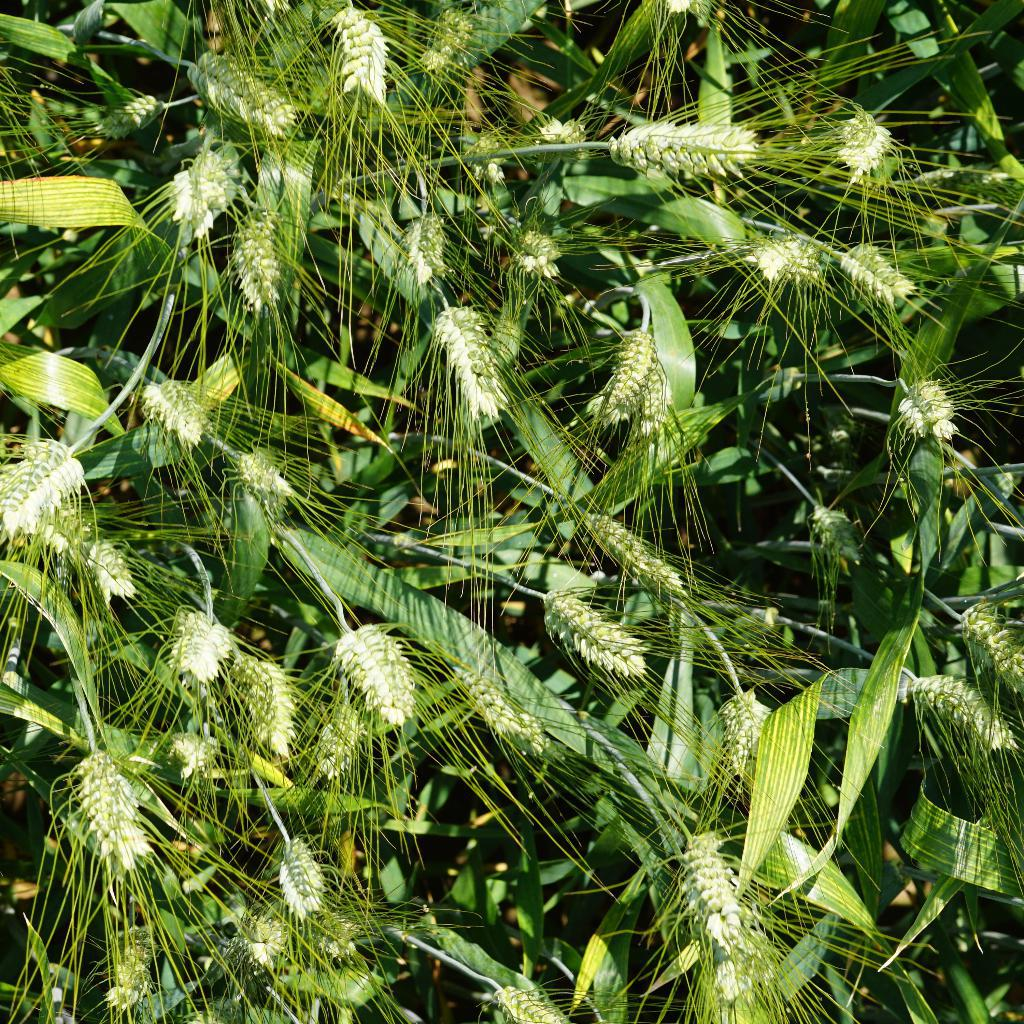0-0: (163, 37, 300, 147), (77, 740, 179, 877), (579, 507, 712, 610), (903, 651, 1011, 776), (601, 109, 766, 190), (33, 499, 163, 601), (332, 608, 423, 729), (0, 423, 93, 539), (219, 648, 311, 761), (538, 586, 647, 681), (676, 828, 757, 953), (448, 656, 548, 757), (580, 310, 662, 429), (695, 909, 779, 1016), (626, 325, 692, 460), (317, 0, 406, 100), (828, 236, 937, 317), (156, 136, 236, 243), (159, 586, 232, 698), (819, 96, 903, 189), (945, 582, 1024, 680), (88, 914, 161, 1020), (225, 204, 292, 319), (789, 479, 882, 561), (271, 898, 369, 970), (124, 369, 216, 445), (888, 366, 976, 444), (207, 437, 308, 503), (266, 832, 333, 929), (153, 712, 232, 790), (713, 687, 781, 773), (306, 694, 372, 780), (220, 900, 290, 977), (526, 100, 604, 167), (419, 0, 484, 78), (739, 225, 822, 286), (395, 194, 451, 284), (480, 975, 582, 1024), (86, 87, 172, 144), (492, 221, 568, 280), (164, 978, 250, 1024), (464, 112, 512, 190), (151, 0, 305, 24), (638, 0, 721, 30), (468, 0, 515, 10)
